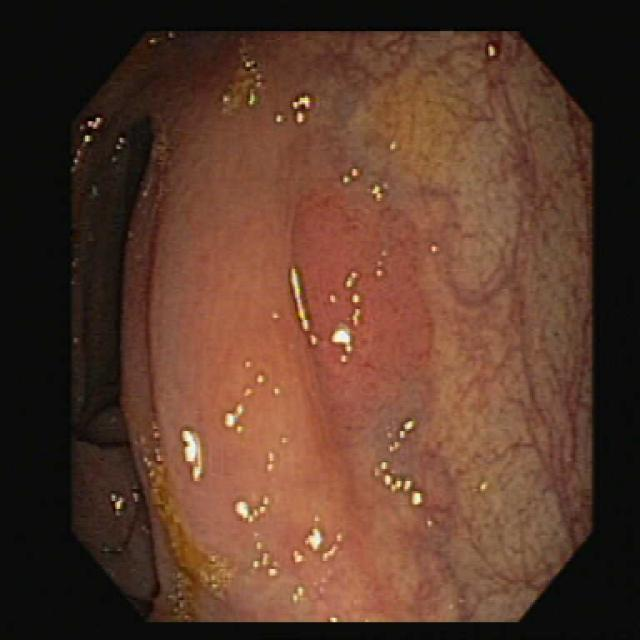tumor: (293, 189, 430, 411)
